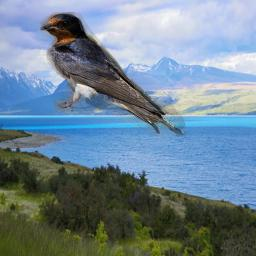Swallow: (40, 12, 188, 140)
